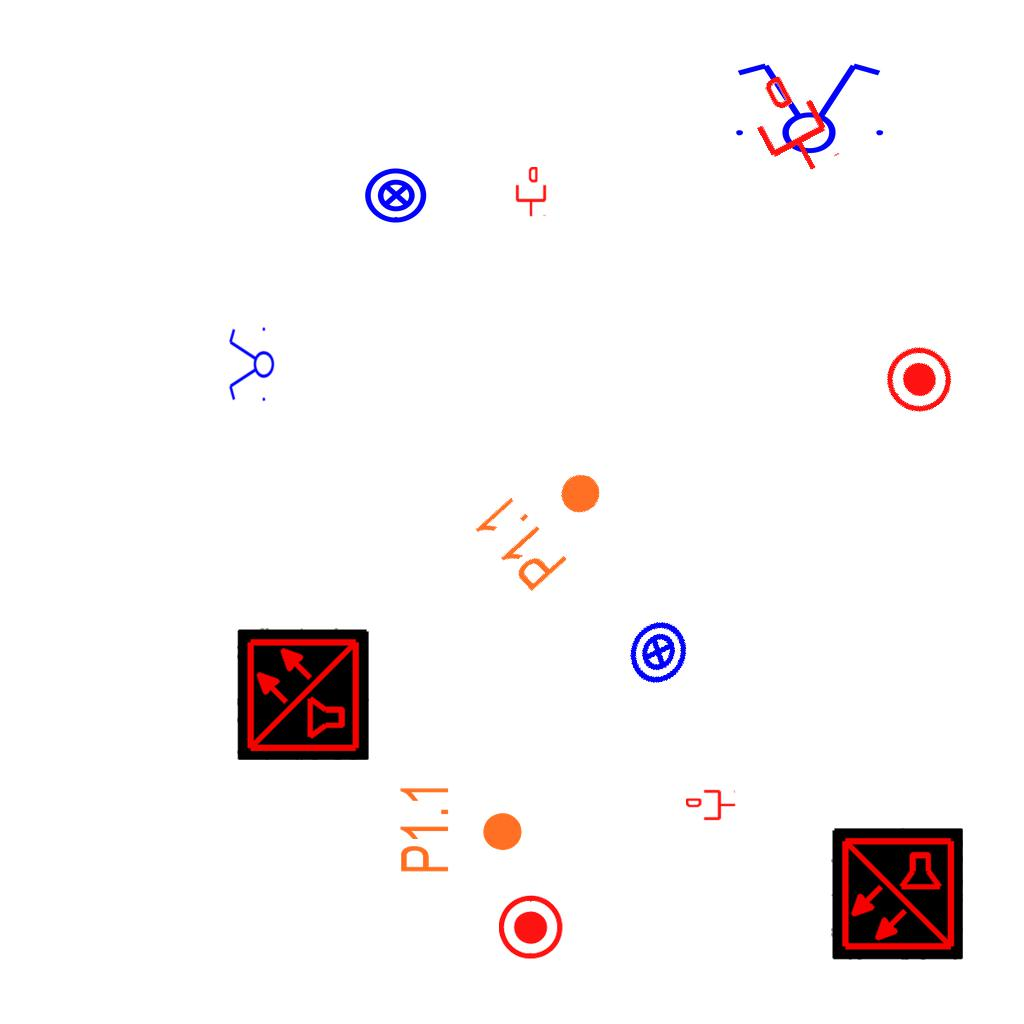Datenanschluss_einfach: (736, 65, 845, 187), (686, 788, 736, 822), (514, 167, 548, 217)
Downlight_LED_Einbauleuchten_Flur_2: (468, 441, 627, 597), (397, 782, 525, 875)
OKW_Multisensormelder_(Kombination_optischer_Rauch-Kahlenmonoxid_Waerme-Melder): (831, 828, 963, 960), (237, 628, 369, 760)
Serienschalter: (724, 59, 892, 155), (227, 323, 275, 407)
Taster: (873, 332, 965, 424), (499, 895, 565, 961)
Taster_beleuchtet: (614, 608, 702, 696), (363, 162, 429, 228)
